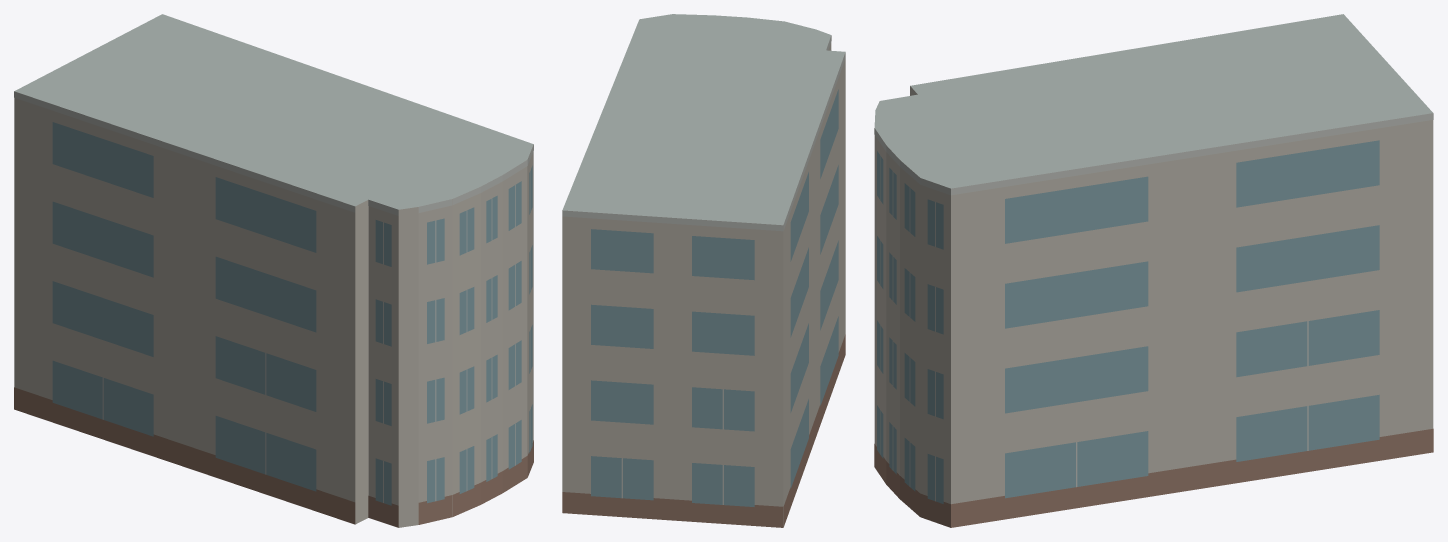
File: survey-upis-32952336.glb
3 renders of one model, left to right at view 1: azimuth 30°, elevation 25°; view 2: azimuth 150°, elevation 25°; view 3: azimuth 270°, elevation 25°, orthographic. The views are drawn at different scales.
Parts seen in each view (by area): view 1: survey-upis-32952336.tmp; view 2: survey-upis-32952336.tmp; view 3: survey-upis-32952336.tmp.
Part boxes in pixels (x1,y1,x2,y2): survey-upis-32952336.tmp: (14, 14, 533, 527); survey-upis-32952336.tmp: (562, 14, 845, 527); survey-upis-32952336.tmp: (874, 14, 1433, 527).
Bounding box in the file's own units: 13.47 × 12.2 × 18.23.
